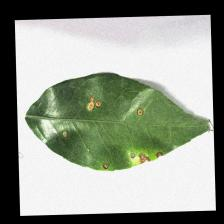canker: (59, 86, 165, 172)
